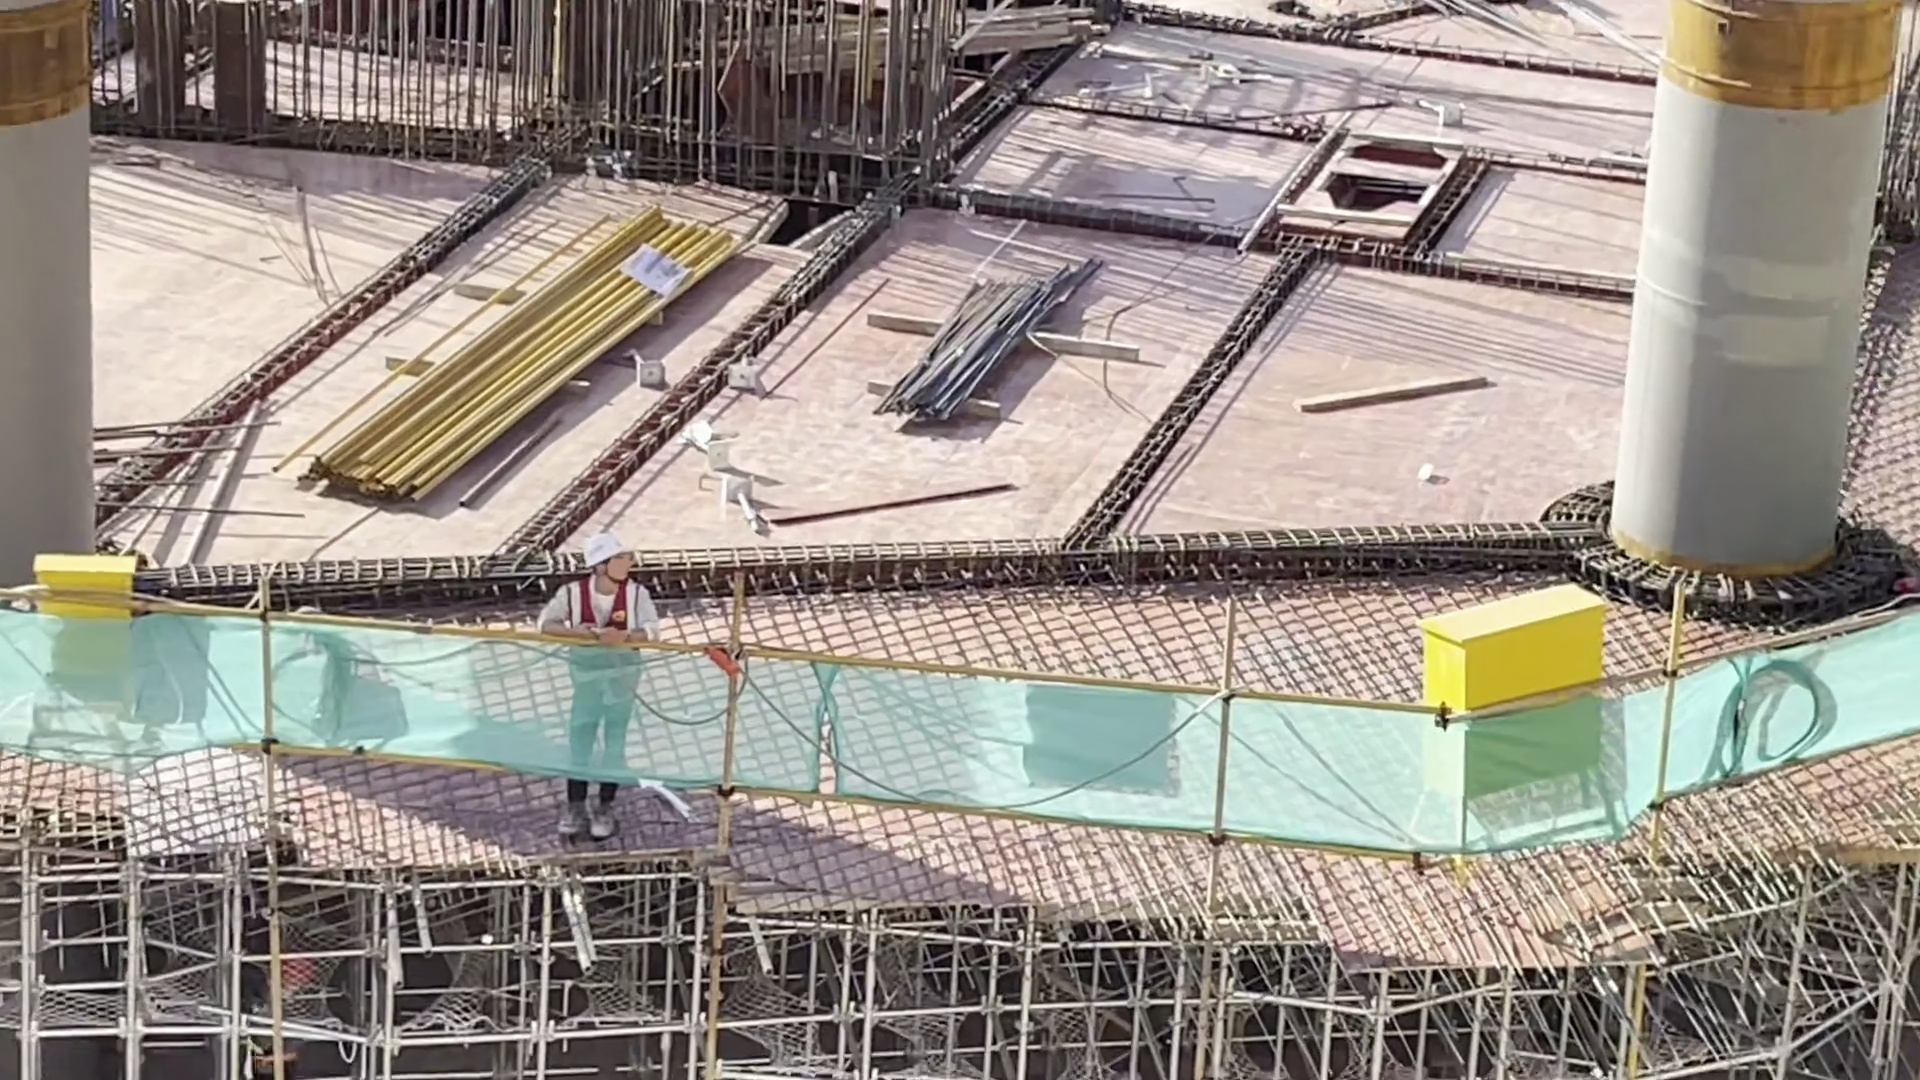ebox: (1428, 582, 1556, 806), (14, 547, 144, 729)
helmet: (581, 536, 628, 579), (295, 955, 318, 978)
person: (551, 551, 656, 816), (218, 923, 316, 1080)
rebar: (895, 268, 1085, 404)
vest: (579, 591, 659, 722), (244, 967, 296, 1052)
